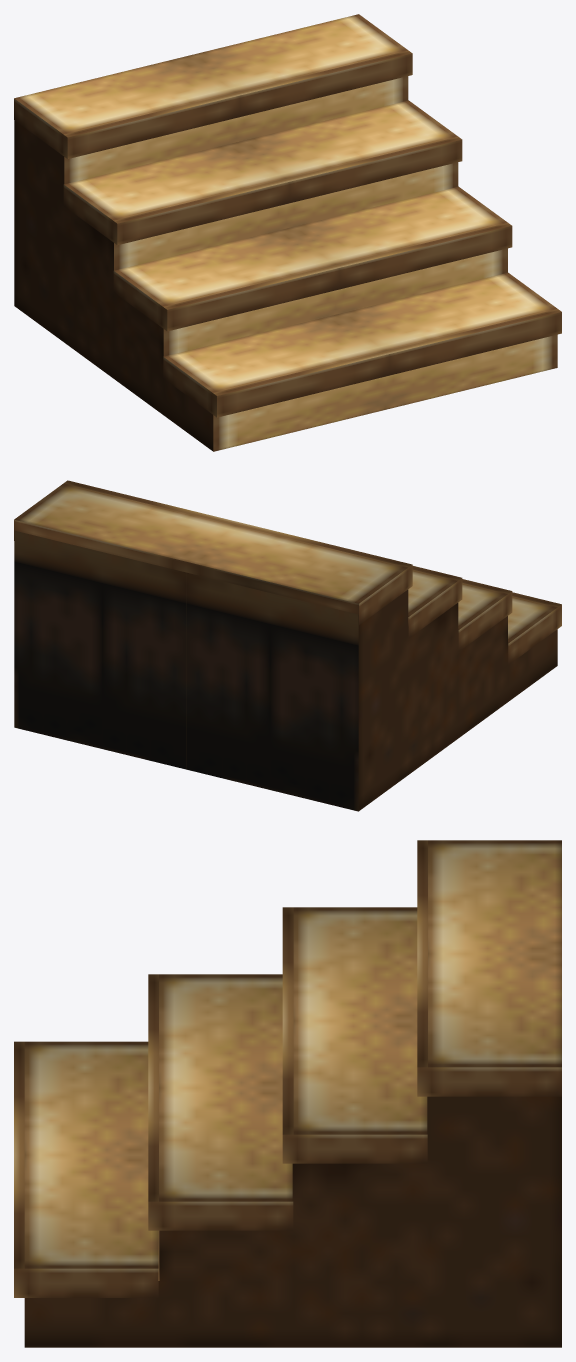
The model's file is Inside_Poly_Stairs_02.obj.
The picture shows the model from 3 angles, top to bottom: view 1: azimuth 30°, elevation 25°; view 2: azimuth 150°, elevation 25°; view 3: azimuth 270°, elevation 25°; orthographic projection. The views are drawn at different scales.
Parts seen in each view (by area): view 1: Cube.004, Cube.001; view 2: Cube.001, Cube.004; view 3: Cube.004, Cube.001.
Part boxes in pixels (x1,y1,x2,y2): Cube.004: (14, 14, 561, 417); Cube.001: (14, 76, 557, 451); Cube.001: (14, 530, 557, 811); Cube.004: (14, 480, 561, 664); Cube.004: (14, 840, 561, 1297); Cube.001: (24, 1096, 561, 1347).
Bounding box in the file's own units: 1 × 0.577 × 1.02.
1 material, 1 textured.
